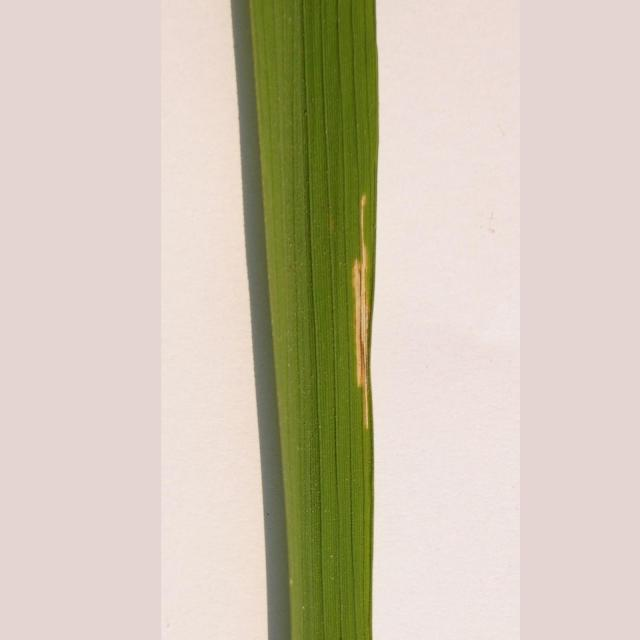Bacterial leaf blight: (335, 185, 376, 460)
